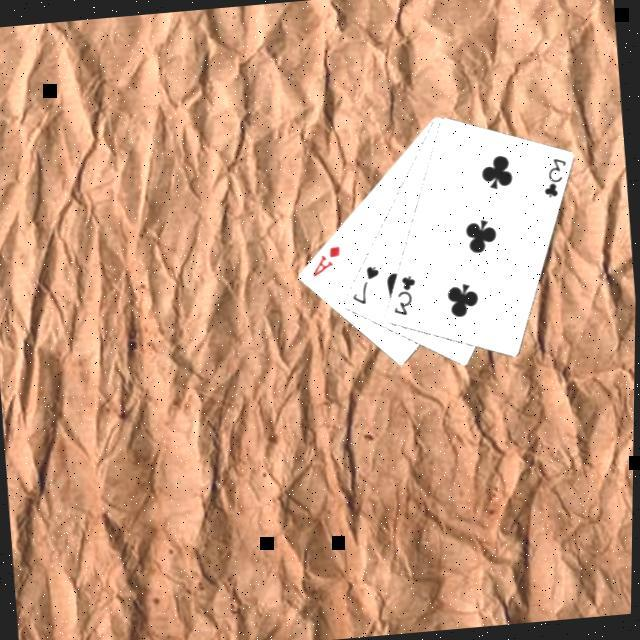3C: (535, 152, 571, 201), (385, 270, 419, 318)
7S: (344, 261, 383, 308)
AD: (304, 241, 343, 280)
